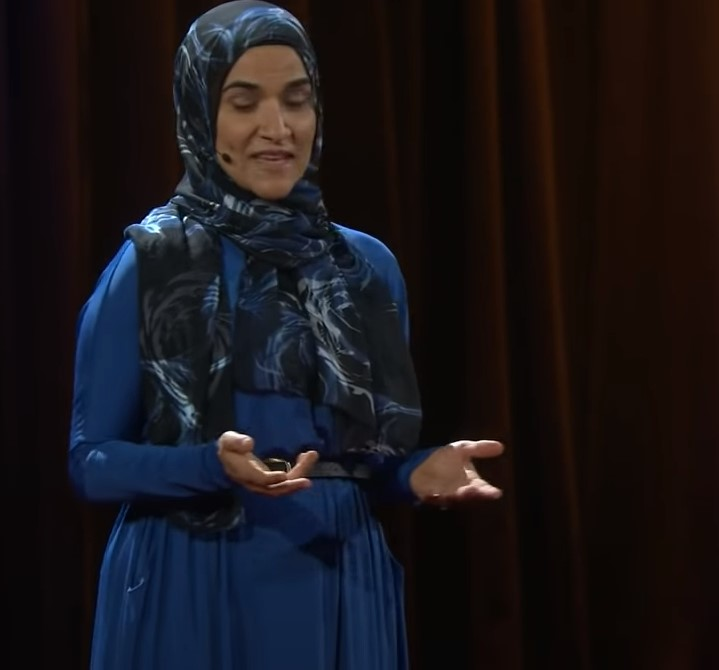face_no_mask: (204, 37, 317, 205)
